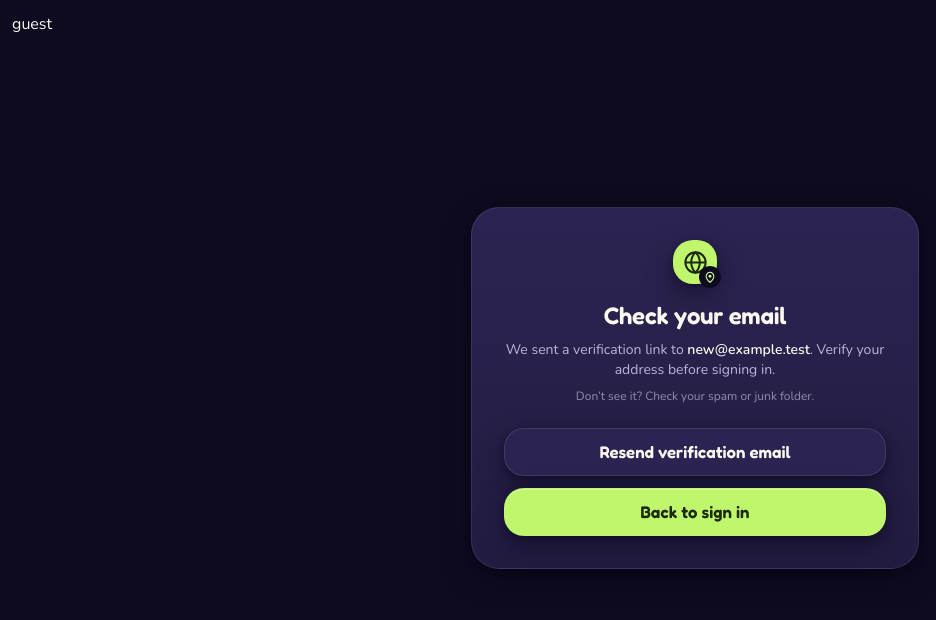
AuthPage registration verification flow › does not establish an authenticated session when email verification is required
Earlier steps of the test are not shown.
Later steps or results of the test are not shown.
expect the heading "Check your email" is shown: met, box [604,300,786,332]
expect the text "Don’t see it? Check your spam or junk folder." is shown: met, box [576,388,814,404]
Click the button "Resend verification email" at [695, 452], box [504,428,886,476]
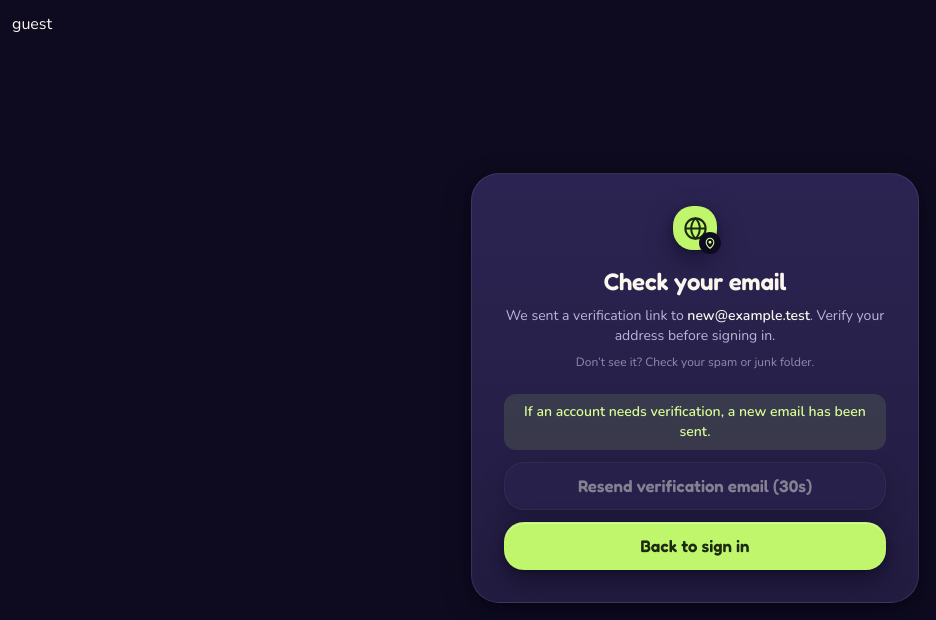
expect the message "If an account needs verification, a new email has been sent." is shown: met, box [504,394,886,450]
expect the button "Resend verification email (30s)" is disabled: met, box [504,462,886,510]
